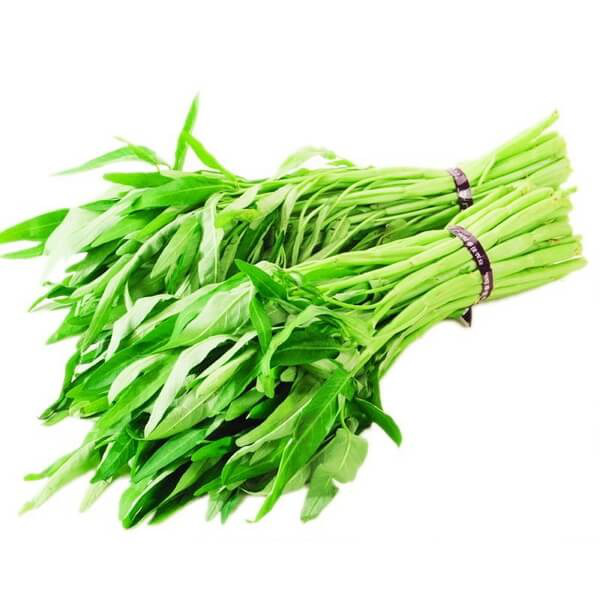Kangkung: (15, 121, 600, 516)
